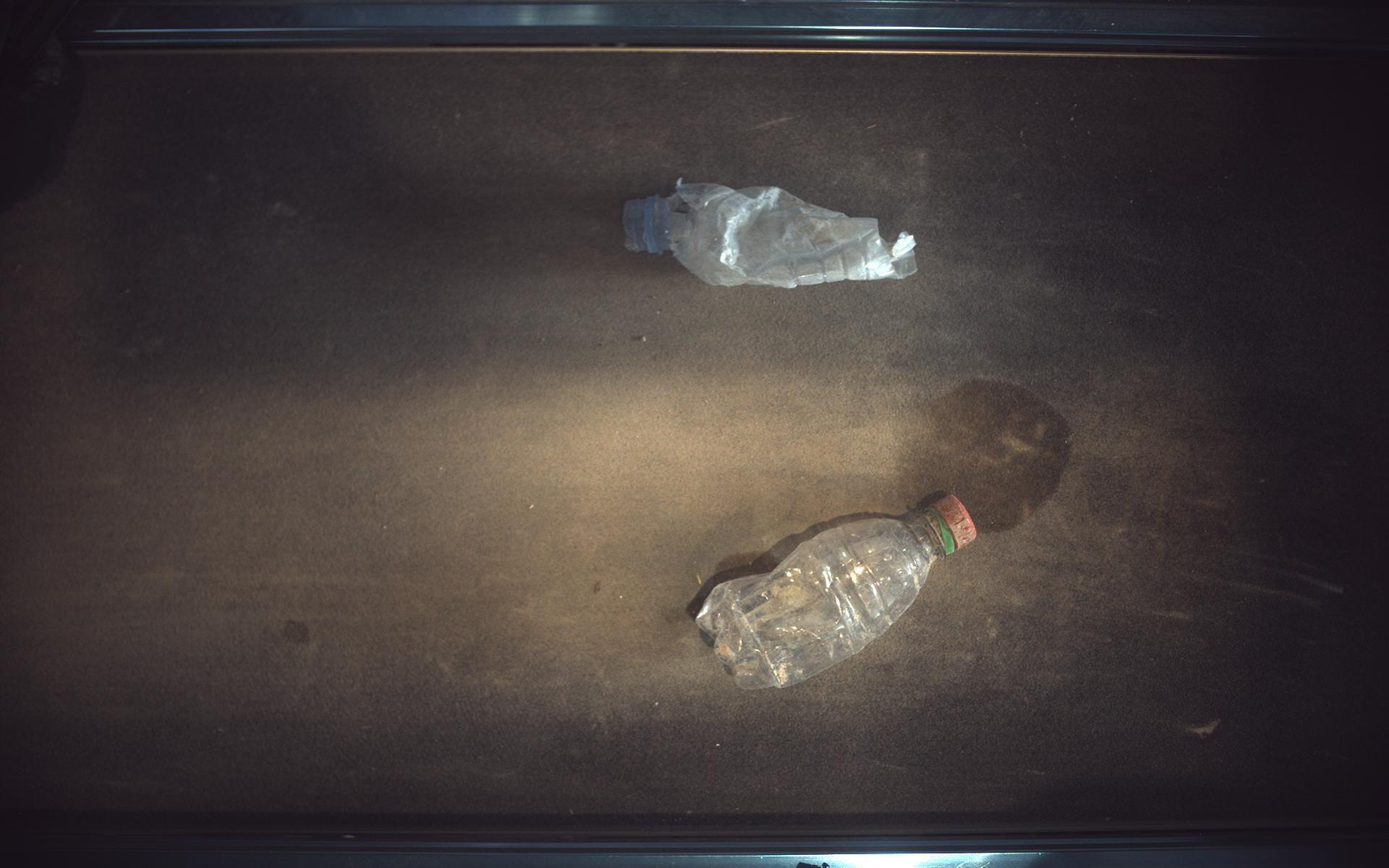general_w: (698, 493, 979, 690), (624, 178, 919, 287)
